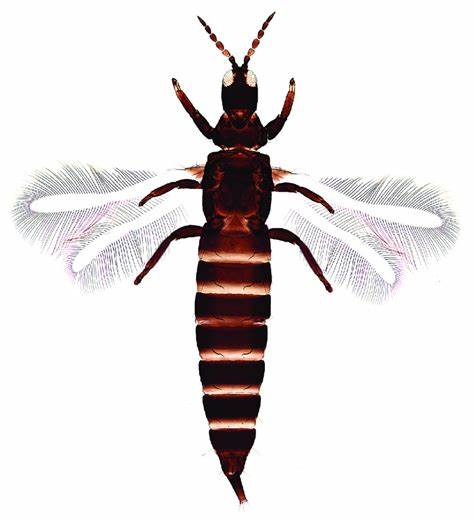Phlaeothripidae: (11, 9, 458, 512)
